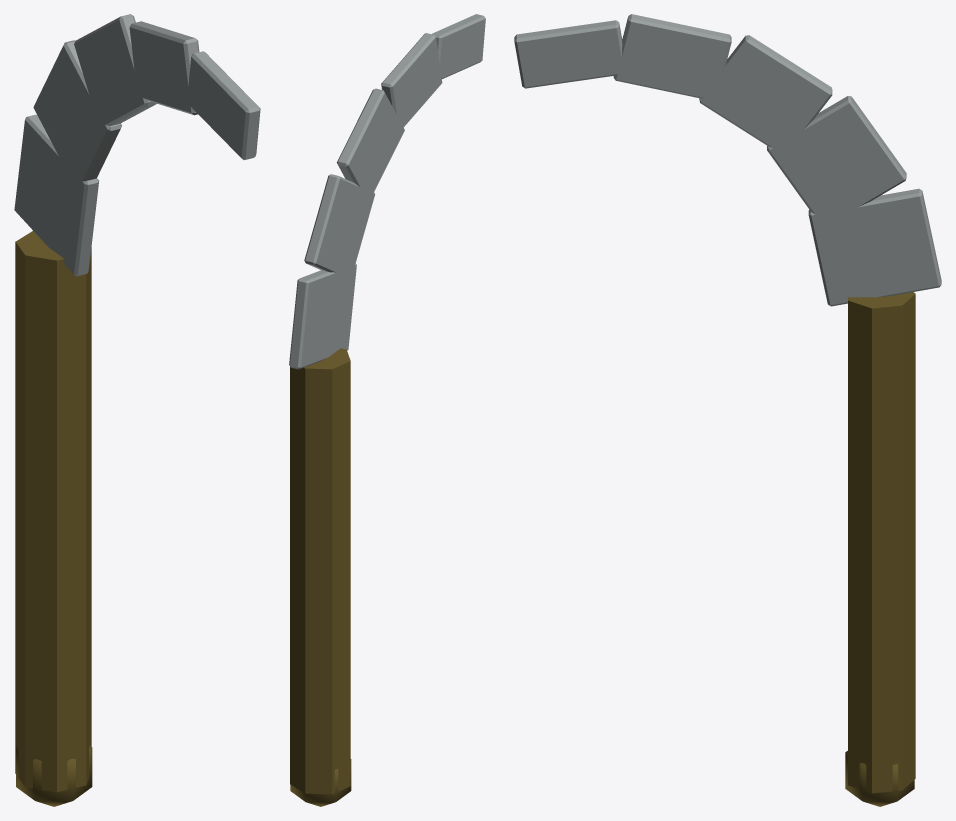
File: harvest_blade.glb
The picture shows the model from 3 angles, left to right: view 1: azimuth 30°, elevation 25°; view 2: azimuth 150°, elevation 25°; view 3: azimuth 270°, elevation 25°; orthographic projection. The views are drawn at different scales.
Parts seen in each view (by area): view 1: part.harvest_blade; view 2: part.harvest_blade; view 3: part.harvest_blade.
Part boxes in pixels (x1,y1,x2,y2): part.harvest_blade: (14, 14, 260, 806); part.harvest_blade: (289, 14, 485, 806); part.harvest_blade: (514, 14, 941, 806).
Bounding box in the file's own units: 0.156 × 1.96 × 0.9584.
